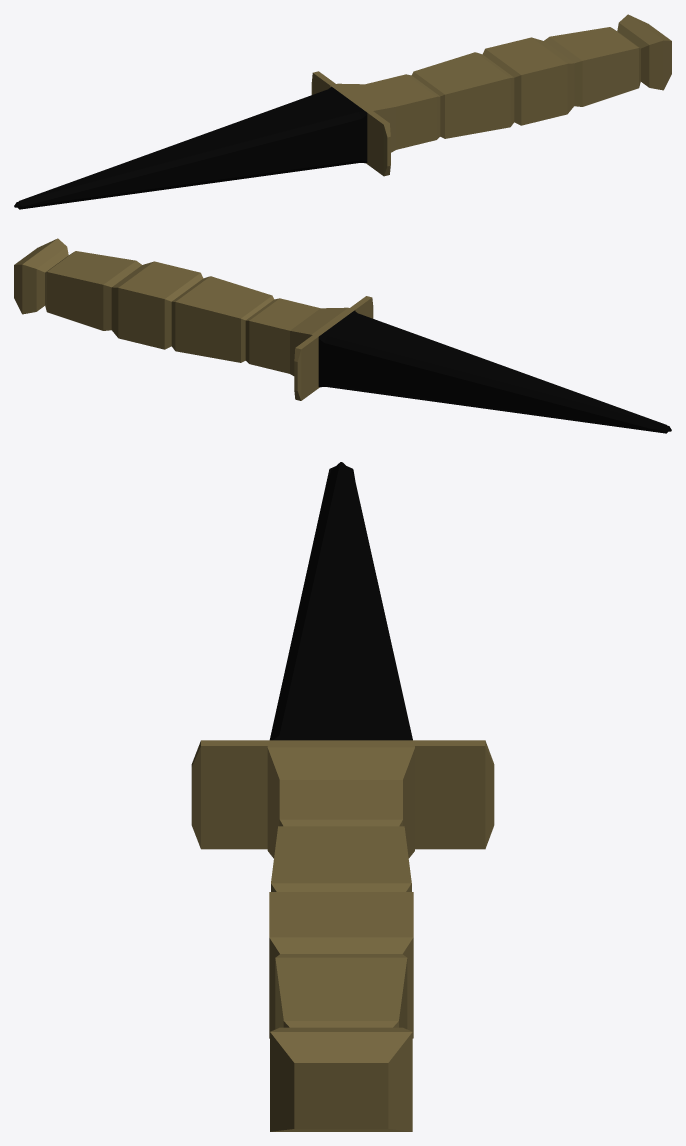
Rendered from knife.fbx.
The picture shows the model from 3 angles, top to bottom: view 1: azimuth 30°, elevation 25°; view 2: azimuth 150°, elevation 25°; view 3: azimuth 270°, elevation 25°; orthographic projection. The views are drawn at different scales.
Visible parts, largest first — view 1: Cube; view 2: Cube; view 3: Cube.
Boxes of the visible parts, x1,y1,x2,y2 form: Cube: (14,14,671,209); Cube: (14,238,671,433); Cube: (191,462,494,1131).
Size of the model in its own units: 422 by 32.28 by 85.61.
